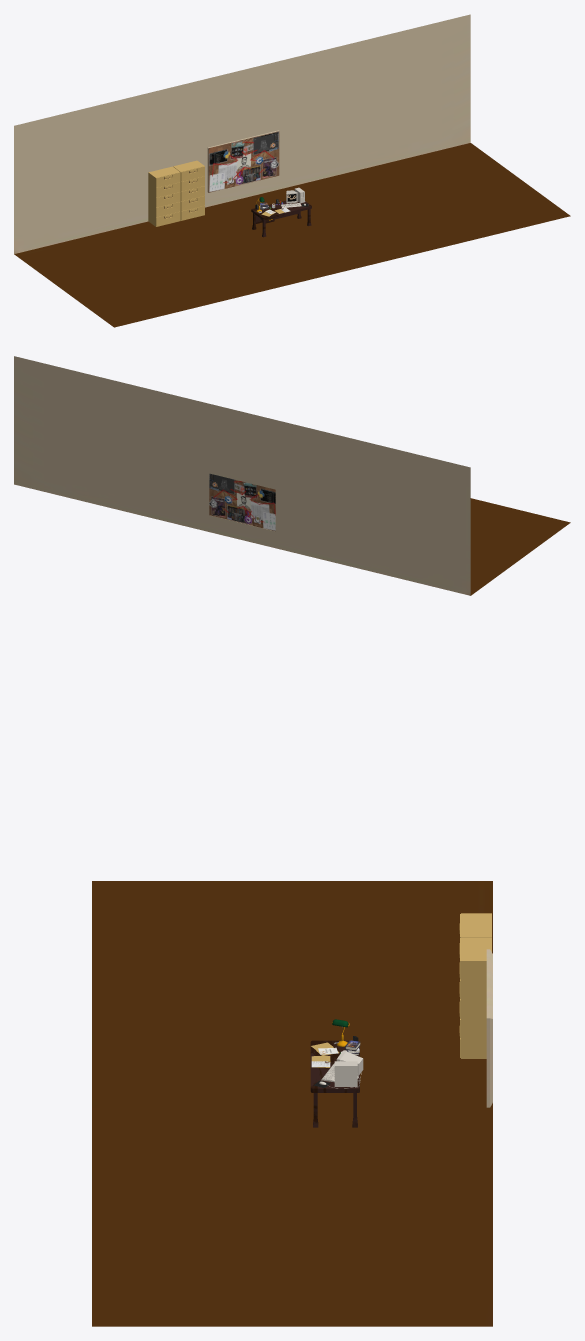
Rendered from OficinaDetective.glb.
The picture shows the model from 3 angles, top to bottom: view 1: azimuth 30°, elevation 25°; view 2: azimuth 150°, elevation 25°; view 3: azimuth 270°, elevation 25°; orthographic projection. The views are drawn at different scales.
Visible parts, largest first — view 1: Mesa; view 2: Mesa; view 3: Mesa.
Part boxes in pixels (bbox=[...]): Mesa: bbox=[14, 14, 570, 327]; Mesa: bbox=[14, 356, 570, 595]; Mesa: bbox=[92, 881, 492, 1326].
Bounding box in the file's own units: 19.5 × 5.24 × 7.41.
2 materials, 2 textured.
